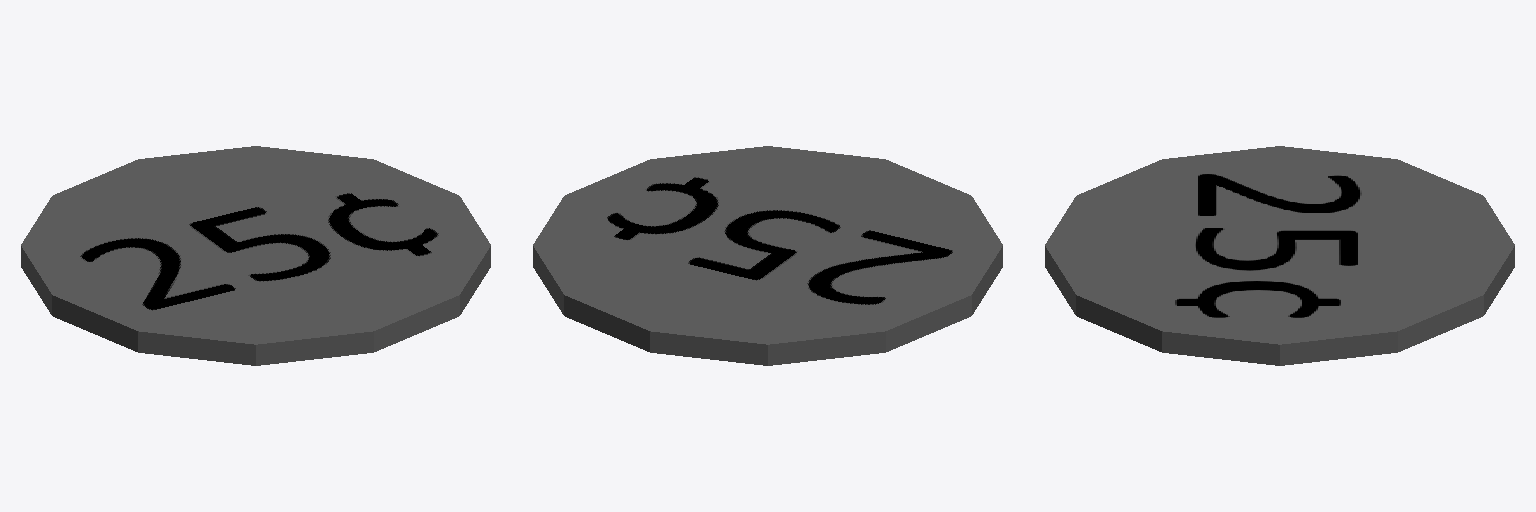
3 views of the same model, side by side, from view 1: azimuth 30°, elevation 25°; view 2: azimuth 150°, elevation 25°; view 3: azimuth 270°, elevation 25° (orthographic).
Parts seen in each view (by area): view 1: Cylinder; view 2: Cylinder; view 3: Cylinder.
Part boxes in pixels (x1,y1,x2,y2): Cylinder: (21,146,490,365); Cylinder: (533,146,1002,365); Cylinder: (1045,146,1514,365).
Size of the model in its own units: 6 by 0.3 by 6.
1 materials, 1 textured.